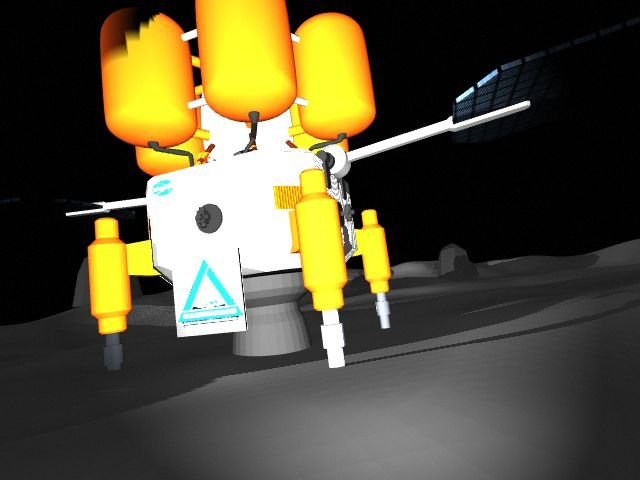basemarker: (178, 258, 244, 328)
